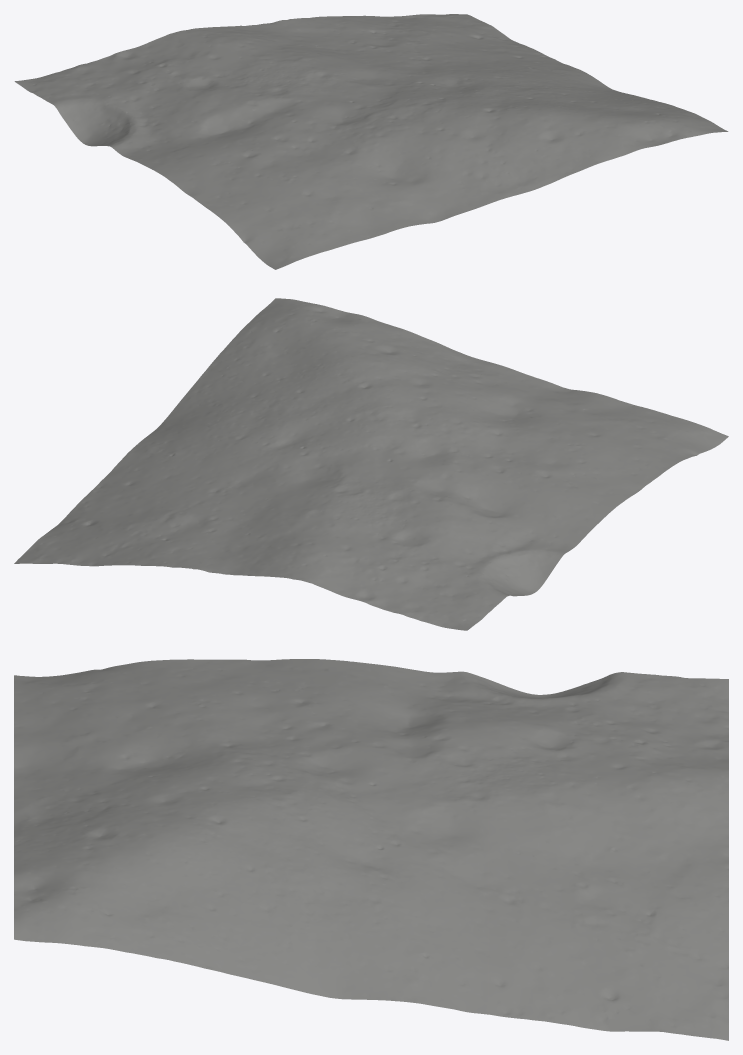
File: faustini-rim-a.glb
3 views of the same model, one above another, from view 1: azimuth 30°, elevation 25°; view 2: azimuth 150°, elevation 25°; view 3: azimuth 270°, elevation 25° (orthographic). The views are drawn at different scales.
Parts seen in each view (by area): view 1: Faustini Rim A terrain; view 2: Faustini Rim A terrain; view 3: Faustini Rim A terrain.
Boxes of the visible parts, x1=… form: Faustini Rim A terrain: x1=14, y1=14, x2=728, y2=269; Faustini Rim A terrain: x1=14, y1=298, x2=728, y2=630; Faustini Rim A terrain: x1=14, y1=659, x2=728, y2=1040.
Size of the model in its own units: 11995 by 2139 by 11995.
1 material, 1 textured.
